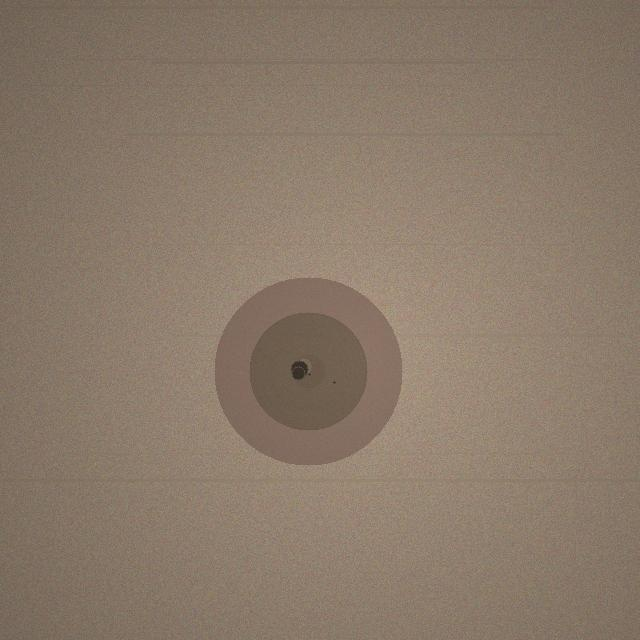shrinkage: (214, 277, 402, 465)
